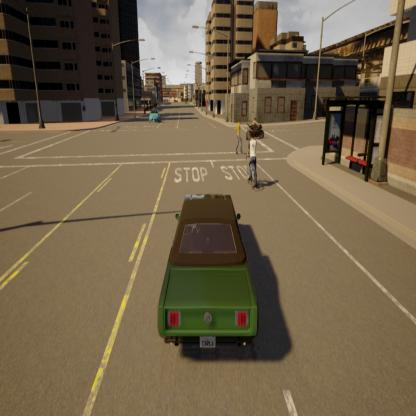Cars: (155, 190, 263, 351), (148, 108, 162, 124)
Pedestrian: (232, 118, 246, 158)
